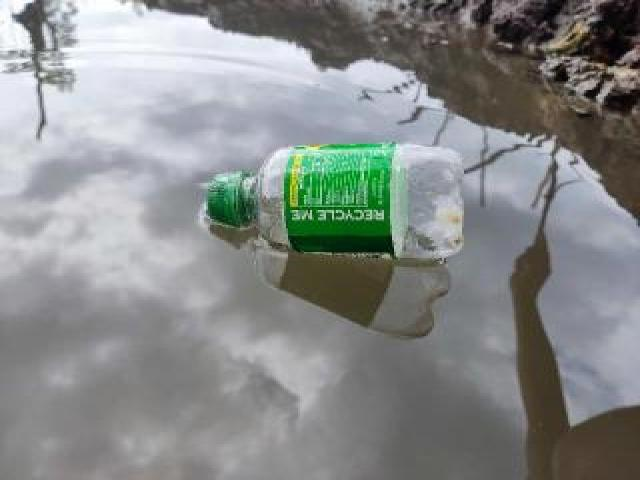Bottle: (197, 137, 478, 262)
